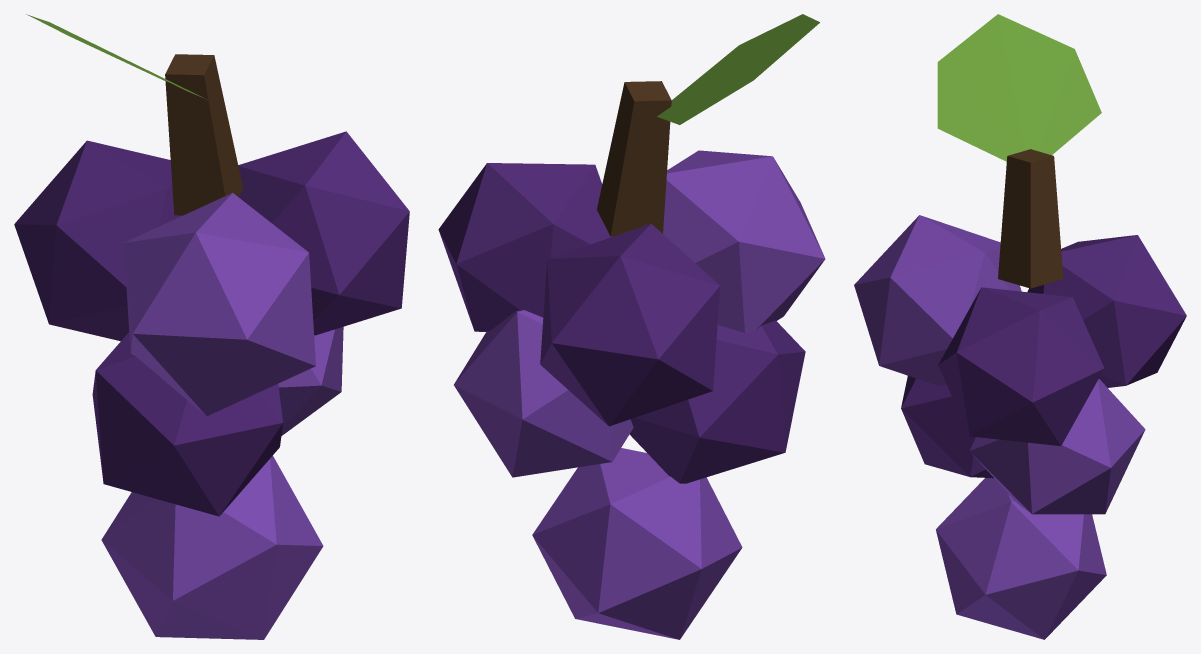
The model's file is grapes-e7ddb2.glb.
3 renders of one model, left to right at view 1: azimuth 30°, elevation 25°; view 2: azimuth 150°, elevation 25°; view 3: azimuth 270°, elevation 25°, orthographic. The views are drawn at different scales.
Visible parts, largest first — view 1: grapes; view 2: grapes; view 3: grapes.
Part boxes in pixels (x1,y1,x2,y2): grapes: [14, 14, 409, 639]; grapes: [438, 14, 825, 639]; grapes: [854, 14, 1186, 639].
Bounding box in the file's own units: 0.1518 × 0.2537 × 0.1423.
